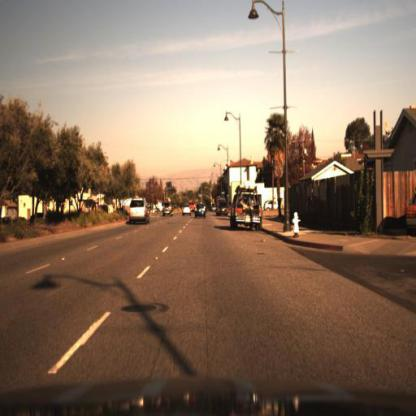car: (231, 179, 267, 231), (123, 186, 154, 230), (163, 195, 180, 220), (193, 199, 210, 224), (216, 196, 232, 220), (264, 196, 283, 213), (183, 199, 195, 219)
